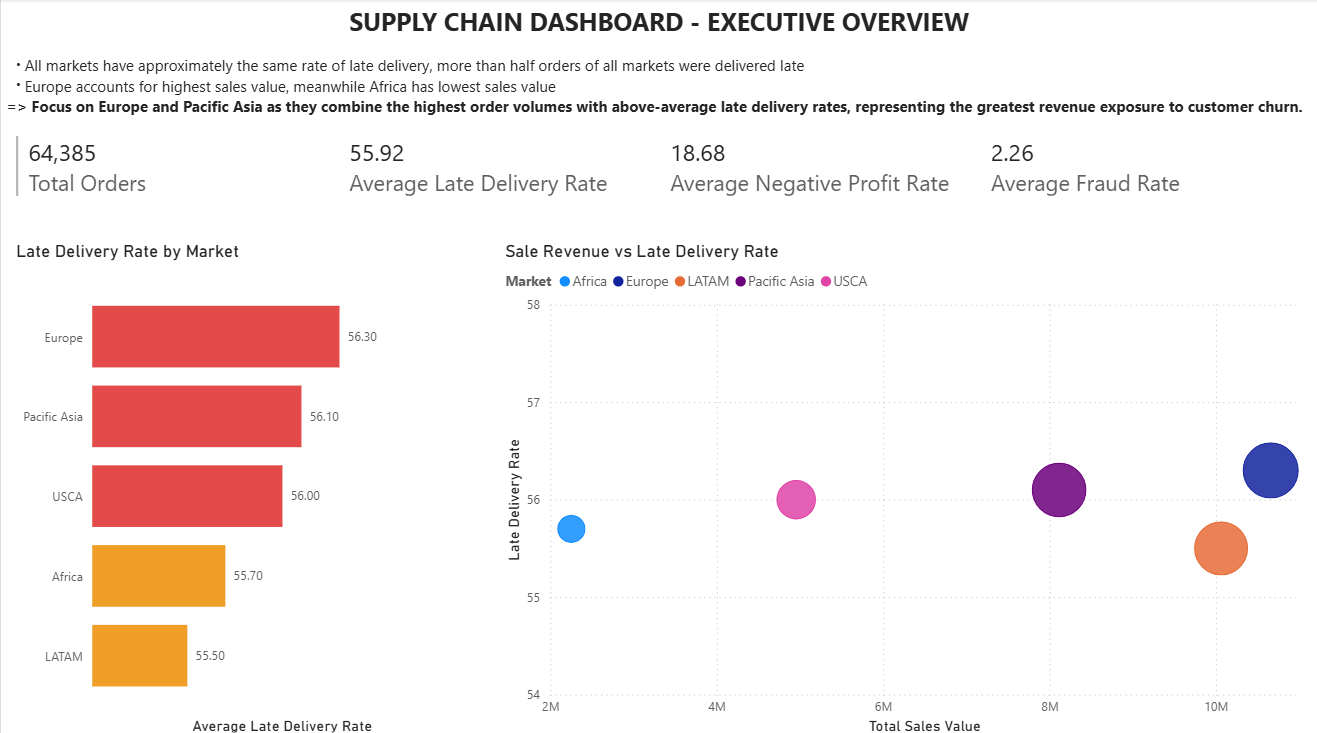

The page's visual inventory and layout, read from the dashboard file:
{"tool":"powerbi","page":{"name":"Executive Overview","canvas":[1280,720],"ordinal":0},"visuals":[{"type":"multiRowCard","fields":{"Values":["market_kpi.total_orders","market_kpi.late_delivery_pct","market_kpi.neg_profit_pct","market_kpi.fraud_pct"]},"box":[9.7,128.4,1270.3,92.4],"z":0},{"type":"clusteredBarChart","title":"Late Delivery Rate by Market","fields":{"Category":["market_kpi.market"],"Y":["Avg(market_kpi.late_delivery_pct)"]},"box":[9.9,235.5,454,484.5],"z":1000},{"type":"scatterChart","title":"Sale Revenue vs Late Delivery Rate","fields":{"X":["market_kpi.total_sales"],"Y":["market_kpi.late_delivery_pct"],"Size":["Sum(market_kpi.total_orders)"],"Series":["market_kpi.market"]},"box":[485.4,235.5,794.3,484.5],"z":2000},{"type":"textbox","box":[0,0,1280,128.4],"z":3000}]}

Visuals, with their boxes in screenshot pixels (x1, y1, x2, y2), scaled from the page's 1280x720 canvas onto the 1317x733 screenshot:
multiRowCard - market_kpi.total_orders x market_kpi.late_delivery_pct: (left=10, top=131, right=1316, bottom=225)
"Late Delivery Rate by Market" clusteredBarChart: (left=10, top=240, right=477, bottom=732)
"Sale Revenue vs Late Delivery Rate" scatterChart: (left=499, top=240, right=1316, bottom=732)
textbox: (left=0, top=0, right=1316, bottom=131)
